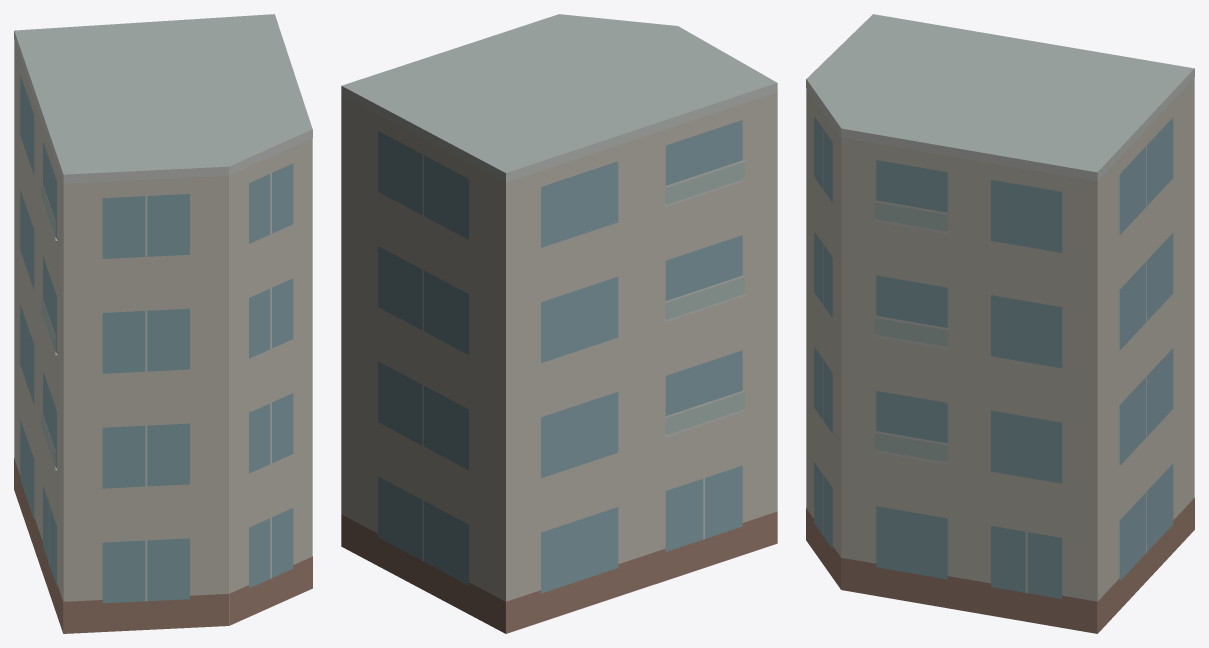
File: survey-upis-32727864.glb
3 views of the same model, side by side, from view 1: azimuth 30°, elevation 25°; view 2: azimuth 150°, elevation 25°; view 3: azimuth 270°, elevation 25° (orthographic).
Parts seen in each view (by area): view 1: survey-upis-32727864.tmp; view 2: survey-upis-32727864.tmp; view 3: survey-upis-32727864.tmp.
Boxes of the visible parts, box(x1,y1,x2,y2) form: survey-upis-32727864.tmp: box(14, 14, 312, 633); survey-upis-32727864.tmp: box(341, 14, 777, 633); survey-upis-32727864.tmp: box(806, 14, 1194, 633).
Bounding box in the file's own units: 9.14 × 12.4 × 9.47.
